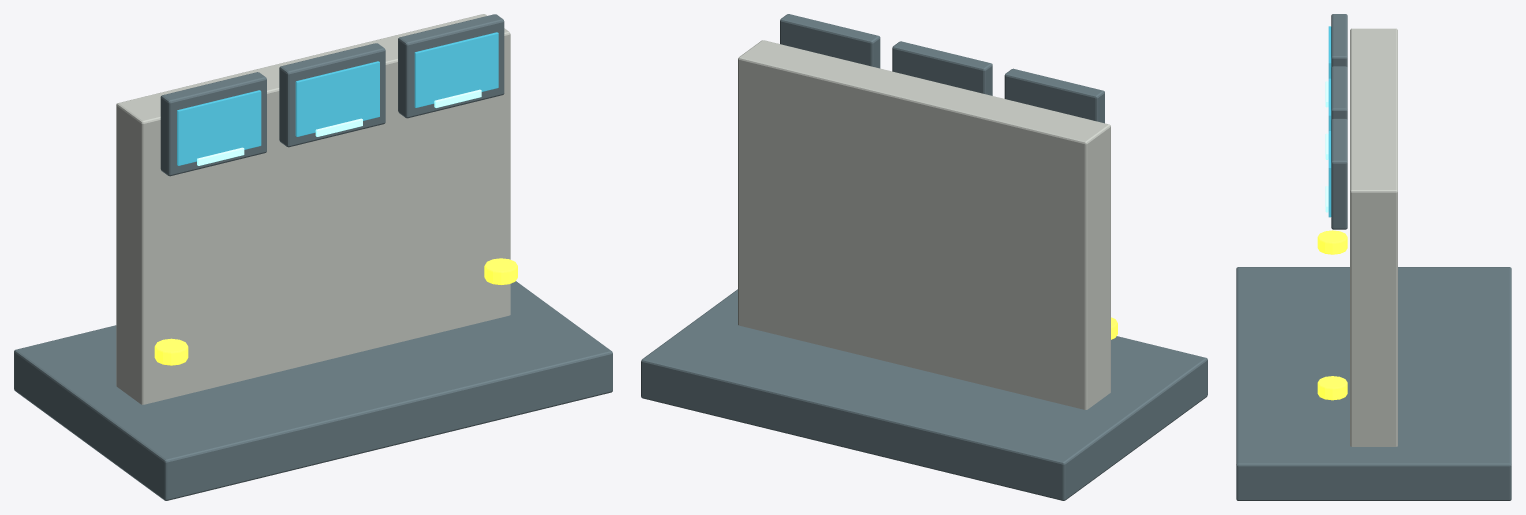
Rendered from micro_reactor_control_d0.glb.
3 renders of one model, left to right at view 1: azimuth 30°, elevation 25°; view 2: azimuth 150°, elevation 25°; view 3: azimuth 270°, elevation 25°, orthographic. The views are drawn at different scales.
Visible parts, largest first — view 1: Open instrument rack.004, Control skid base.004, Monitor glass.014, Monitor glass.012, Monitor glass.013, Monitor housing.014, Monitor housing.013, Monitor housing.012, Emergency stop.008, Emergency stop.009; view 2: Open instrument rack.004, Control skid base.004, Monitor housing.014, Monitor housing.013, Monitor housing.012; view 3: Control skid base.004, Open instrument rack.004, Monitor housing.014, Monitor housing.012, Monitor housing.013, Emergency stop.009, Emergency stop.008, Monitor glass.014.
Boxes of the visible parts, bbox=[...] form: Open instrument rack.004: bbox=[116, 14, 510, 404]; Control skid base.004: bbox=[14, 281, 612, 500]; Monitor glass.014: bbox=[414, 32, 498, 107]; Monitor glass.012: bbox=[177, 90, 261, 165]; Monitor glass.013: bbox=[295, 61, 379, 136]; Monitor housing.014: bbox=[398, 14, 504, 118]; Monitor housing.013: bbox=[279, 43, 385, 147]; Monitor housing.012: bbox=[160, 72, 266, 176]; Emergency stop.008: bbox=[154, 338, 188, 365]; Emergency stop.009: bbox=[484, 258, 517, 284]; Open instrument rack.004: bbox=[738, 40, 1110, 409]; Control skid base.004: bbox=[641, 289, 1207, 500]; Monitor housing.014: bbox=[780, 14, 880, 68]; Monitor housing.013: bbox=[892, 41, 992, 95]; Monitor housing.012: bbox=[1004, 68, 1104, 123]; Control skid base.004: bbox=[1236, 267, 1511, 500]; Open instrument rack.004: bbox=[1350, 28, 1397, 446]; Monitor housing.014: bbox=[1331, 118, 1347, 229]; Monitor housing.012: bbox=[1331, 14, 1347, 67]; Monitor housing.013: bbox=[1331, 66, 1347, 119]; Emergency stop.009: bbox=[1317, 376, 1347, 400]; Emergency stop.008: bbox=[1317, 230, 1347, 254]; Monitor glass.014: bbox=[1328, 131, 1331, 217].
Bounding box in the file's own units: 3.4 × 2.53 × 2.
